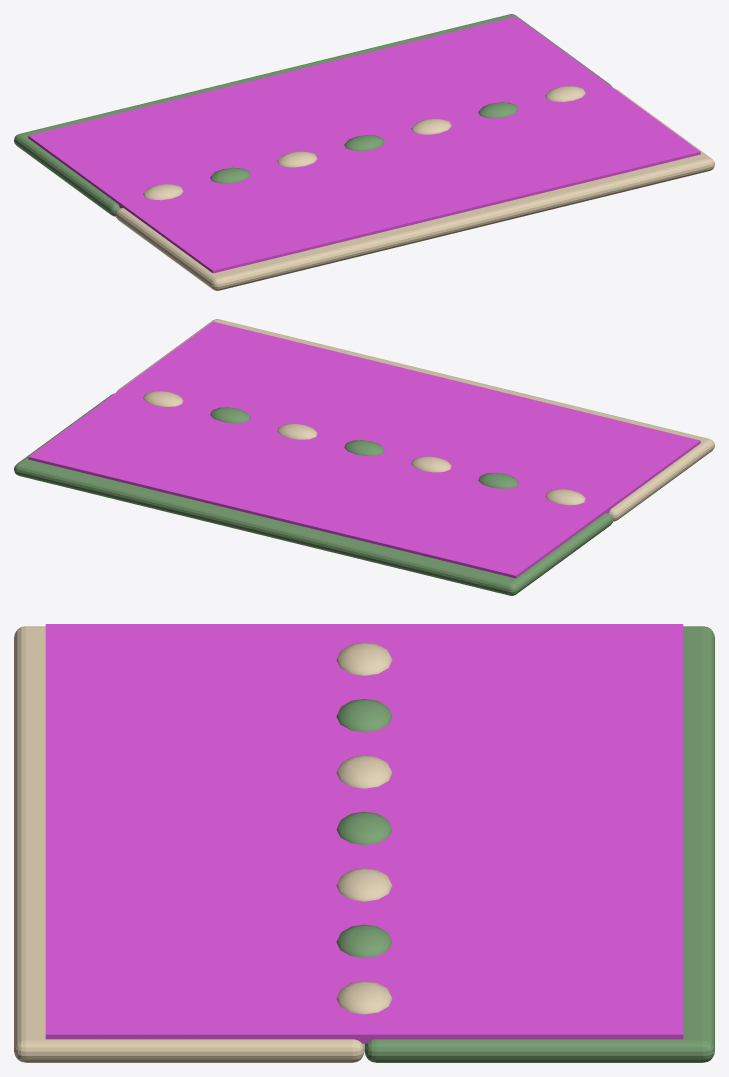
The picture shows the model from 3 angles, top to bottom: view 1: azimuth 30°, elevation 25°; view 2: azimuth 150°, elevation 25°; view 3: azimuth 270°, elevation 25°; orthographic projection. The views are drawn at different scales.
Parts seen in each view (by area): view 1: NAV_MASK_TRANSITION_SAND_GRASS, LOD0_TRANSITION_SAND_GRASS_A, LOD0_TRANSITION_SAND_GRASS_B, LOD0_TRANSITION_SAND_GRASS_Blend_03, LOD0_TRANSITION_SAND_GRASS_Blend_06, LOD0_TRANSITION_SAND_GRASS_Blend_05, LOD0_TRANSITION_SAND_GRASS_Blend_02, LOD0_TRANSITION_SAND_GRASS_Blend_01, LOD0_TRANSITION_SAND_GRASS_Blend_07, LOD0_TRANSITION_SAND_GRASS_Blend_04; view 2: NAV_MASK_TRANSITION_SAND_GRASS, LOD0_TRANSITION_SAND_GRASS_B, LOD0_TRANSITION_SAND_GRASS_A, LOD0_TRANSITION_SAND_GRASS_Blend_03, LOD0_TRANSITION_SAND_GRASS_Blend_06, LOD0_TRANSITION_SAND_GRASS_Blend_05, LOD0_TRANSITION_SAND_GRASS_Blend_02, LOD0_TRANSITION_SAND_GRASS_Blend_01, LOD0_TRANSITION_SAND_GRASS_Blend_07, LOD0_TRANSITION_SAND_GRASS_Blend_04; view 3: NAV_MASK_TRANSITION_SAND_GRASS, LOD0_TRANSITION_SAND_GRASS_A, LOD0_TRANSITION_SAND_GRASS_B, LOD0_TRANSITION_SAND_GRASS_Blend_05, LOD0_TRANSITION_SAND_GRASS_Blend_06, LOD0_TRANSITION_SAND_GRASS_Blend_01, LOD0_TRANSITION_SAND_GRASS_Blend_02, LOD0_TRANSITION_SAND_GRASS_Blend_03, LOD0_TRANSITION_SAND_GRASS_Blend_07, LOD0_TRANSITION_SAND_GRASS_Blend_04.
Boxes of the visible parts, x1,y1,x2,y2 form: NAV_MASK_TRANSITION_SAND_GRASS: (28, 16, 700, 273); LOD0_TRANSITION_SAND_GRASS_A: (115, 88, 714, 290); LOD0_TRANSITION_SAND_GRASS_B: (14, 14, 611, 216); LOD0_TRANSITION_SAND_GRASS_Blend_03: (277, 151, 317, 167); LOD0_TRANSITION_SAND_GRASS_Blend_06: (478, 102, 518, 118); LOD0_TRANSITION_SAND_GRASS_Blend_05: (411, 118, 451, 134); LOD0_TRANSITION_SAND_GRASS_Blend_02: (210, 167, 250, 183); LOD0_TRANSITION_SAND_GRASS_Blend_01: (143, 184, 183, 200); LOD0_TRANSITION_SAND_GRASS_Blend_07: (545, 86, 585, 101); LOD0_TRANSITION_SAND_GRASS_Blend_04: (344, 135, 384, 150); NAV_MASK_TRANSITION_SAND_GRASS: (28, 321, 700, 578); LOD0_TRANSITION_SAND_GRASS_B: (14, 393, 613, 595); LOD0_TRANSITION_SAND_GRASS_A: (117, 319, 714, 521); LOD0_TRANSITION_SAND_GRASS_Blend_03: (411, 456, 451, 472); LOD0_TRANSITION_SAND_GRASS_Blend_06: (210, 407, 250, 423); LOD0_TRANSITION_SAND_GRASS_Blend_05: (277, 423, 317, 439); LOD0_TRANSITION_SAND_GRASS_Blend_02: (478, 472, 518, 488); LOD0_TRANSITION_SAND_GRASS_Blend_01: (545, 489, 585, 505); LOD0_TRANSITION_SAND_GRASS_Blend_07: (143, 391, 183, 406); LOD0_TRANSITION_SAND_GRASS_Blend_04: (344, 440, 384, 455); NAV_MASK_TRANSITION_SAND_GRASS: (45, 624, 683, 1043); LOD0_TRANSITION_SAND_GRASS_A: (14, 626, 364, 1062); LOD0_TRANSITION_SAND_GRASS_B: (364, 626, 714, 1062); LOD0_TRANSITION_SAND_GRASS_Blend_05: (336, 868, 392, 901); LOD0_TRANSITION_SAND_GRASS_Blend_06: (336, 924, 392, 957); LOD0_TRANSITION_SAND_GRASS_Blend_01: (336, 642, 392, 675); LOD0_TRANSITION_SAND_GRASS_Blend_02: (336, 699, 392, 732); LOD0_TRANSITION_SAND_GRASS_Blend_03: (336, 755, 392, 788); LOD0_TRANSITION_SAND_GRASS_Blend_07: (336, 981, 392, 1014); LOD0_TRANSITION_SAND_GRASS_Blend_04: (336, 811, 392, 844).
Size of what is drawn, in the model's own units: 6 by 0.23 by 4.2.
